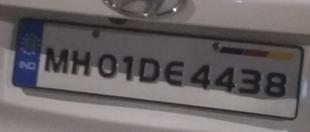0: (95, 52, 119, 79)
1: (121, 52, 137, 82)
3: (238, 65, 263, 96)
4: (191, 59, 214, 94), (214, 63, 238, 94)
8: (265, 70, 288, 100)
D: (139, 55, 162, 85)
E: (164, 58, 187, 90)
H: (71, 46, 94, 77)
M: (41, 44, 69, 76)
